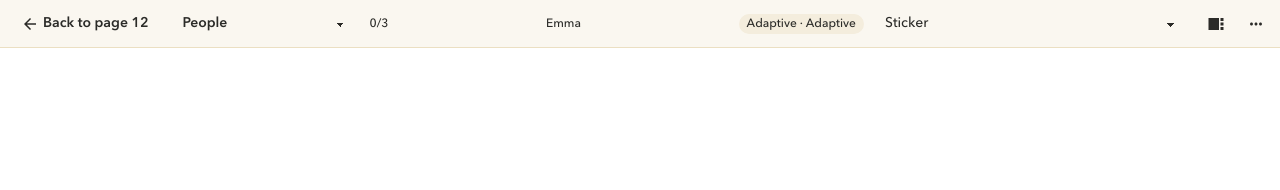
Test: mind map chrome layout in real Chromium › returns focus to the options button when a map option runs
Step 1. Click the button named "Map options" → (1256,24), box [1240,8,1272,40]
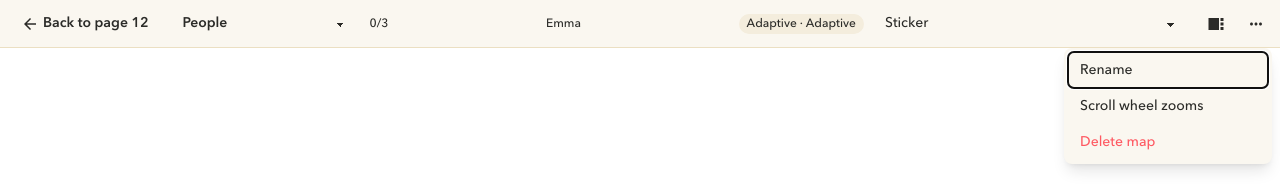
Step 2. Click the menu item "Scroll wheel zooms" → (1168,106), box [1068,88,1268,124]
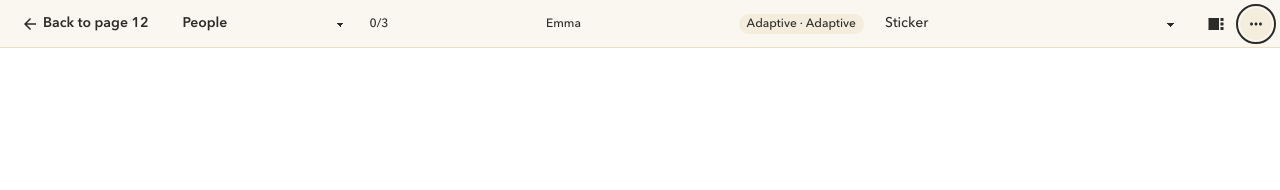
Step 3. Click the button named "Map options" → (1256,24), box [1240,8,1272,40]
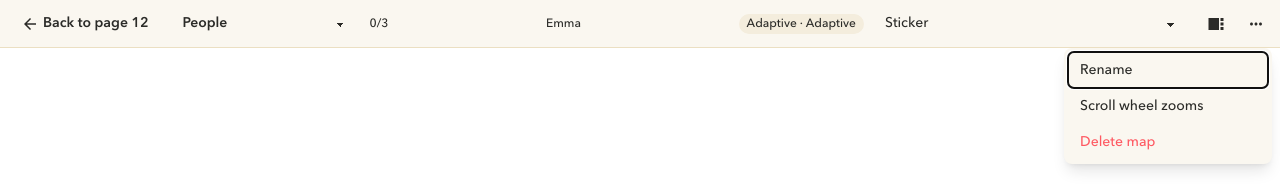
Step 4. Press Escape
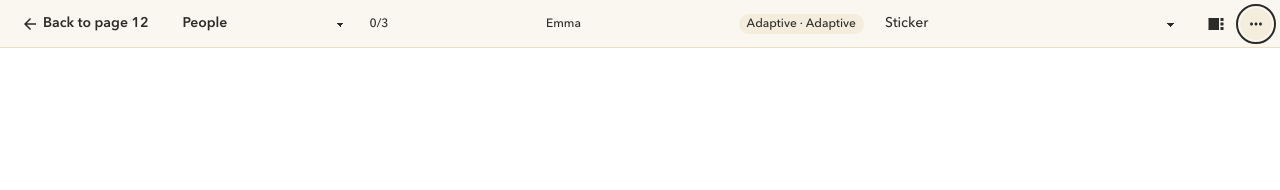
Now the menu is gone
